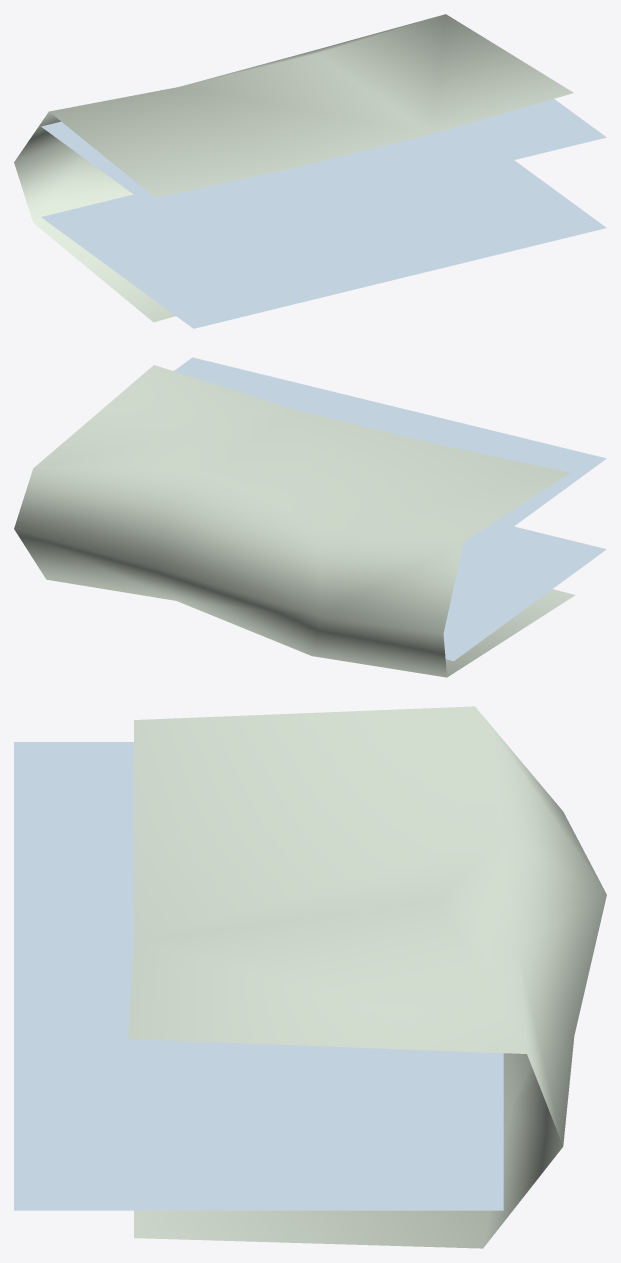
3 renders of one model, top to bottom at view 1: azimuth 30°, elevation 25°; view 2: azimuth 150°, elevation 25°; view 3: azimuth 270°, elevation 25°, orthographic. The views are drawn at different scales.
Parts seen in each view (by area): view 1: Object53; view 2: Object53; view 3: Object53.
Part boxes in pixels (<box>): Object53: <box>14,14,606,328</box>; Object53: <box>14,357,606,677</box>; Object53: <box>14,706,606,1248</box>.
Size of the model in its own units: 23538 by 8419 by 17601.
